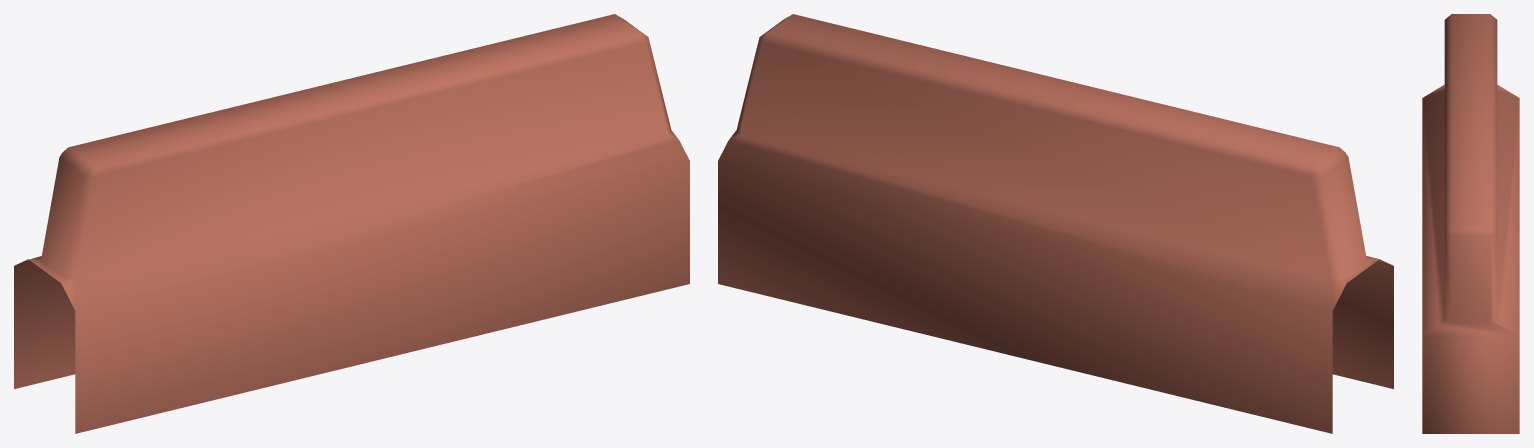
Rendered from SM_barricade_01.fbx.
The picture shows the model from 3 angles, left to right: view 1: azimuth 30°, elevation 25°; view 2: azimuth 150°, elevation 25°; view 3: azimuth 270°, elevation 25°; orthographic projection. The views are drawn at different scales.
Visible parts, largest first — view 1: barricade_02; view 2: barricade_02; view 3: barricade_02.
Part boxes in pixels (x1,y1,x2,y2): barricade_02: [14, 14, 689, 433]; barricade_02: [718, 14, 1393, 433]; barricade_02: [1422, 14, 1519, 433].
Bounding box in the file's own units: 451 × 173 × 77.68.
